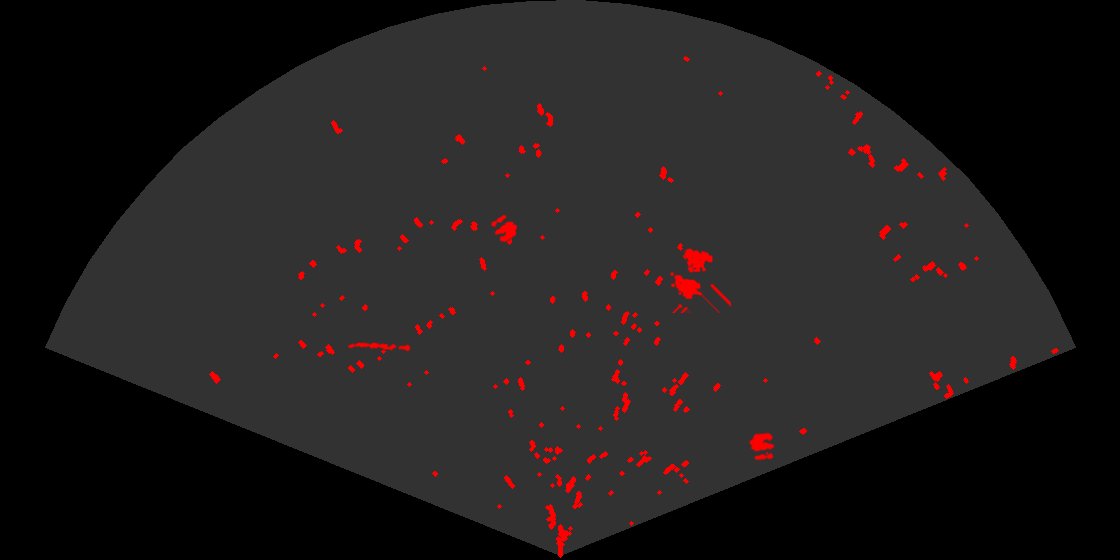ball: (490, 213, 519, 244), (747, 431, 776, 462)
cage: (668, 247, 731, 313)
chain: (346, 341, 411, 353)
